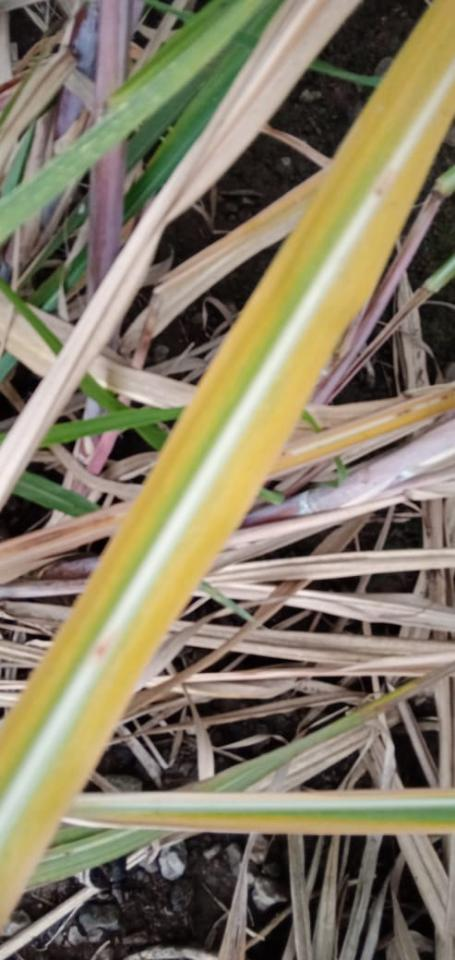RedRot: (373, 168, 399, 197), (93, 638, 115, 662)
Yellow: (0, 79, 454, 932), (0, 0, 454, 787), (266, 396, 454, 476), (61, 812, 454, 835)
